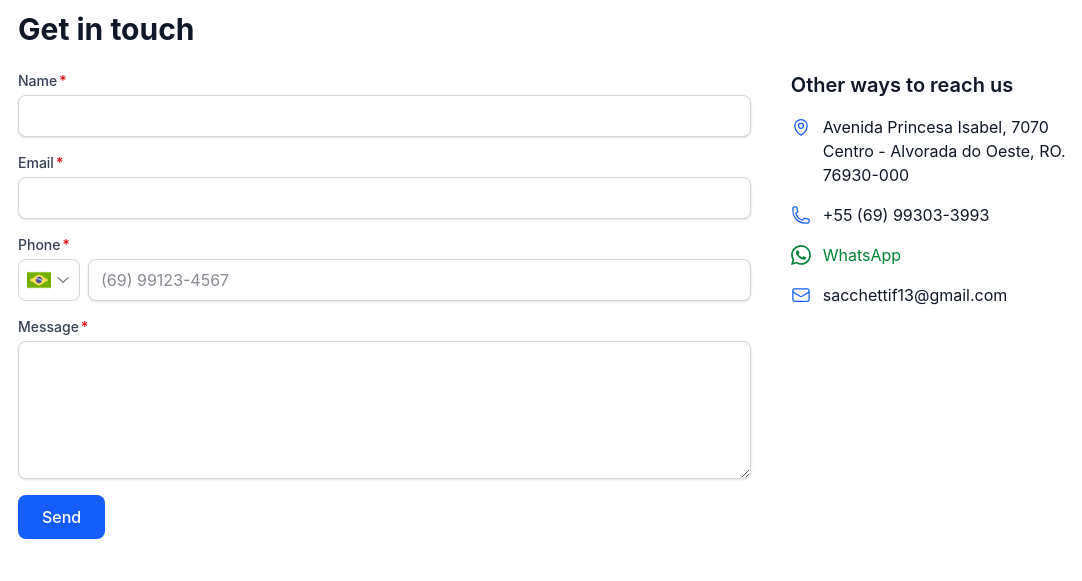
Test: ContactPage › rejects a single-word name client-side, requiring a full name
The image size is (1082, 581).
In the field labelled "Name*": coordinates (384, 116) [18,95,751,137], type "Maria"
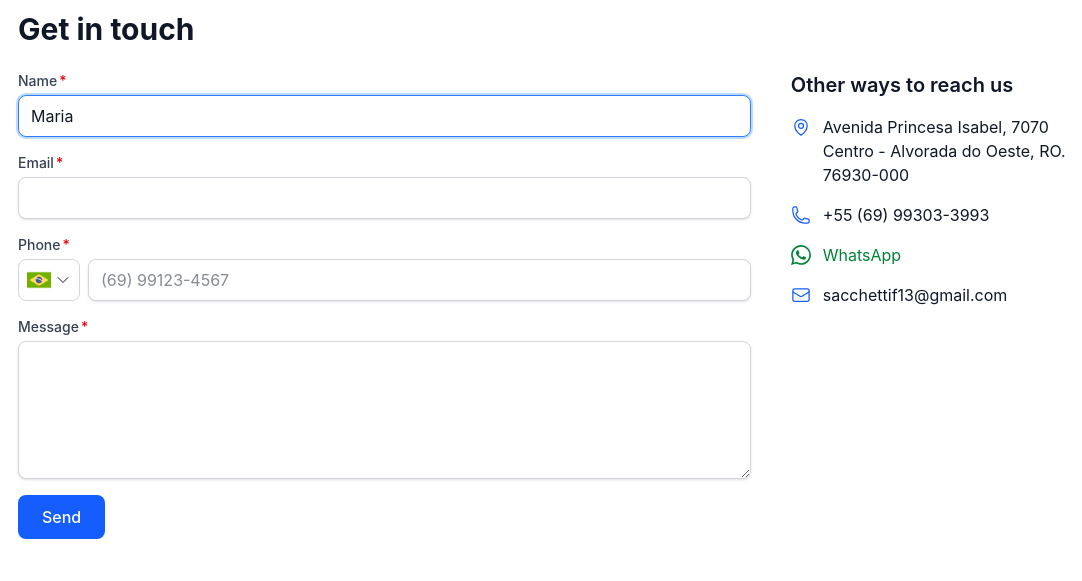
In the field labelled "Email*": coordinates (384, 198) [18,177,751,219], type "jane@example.com"
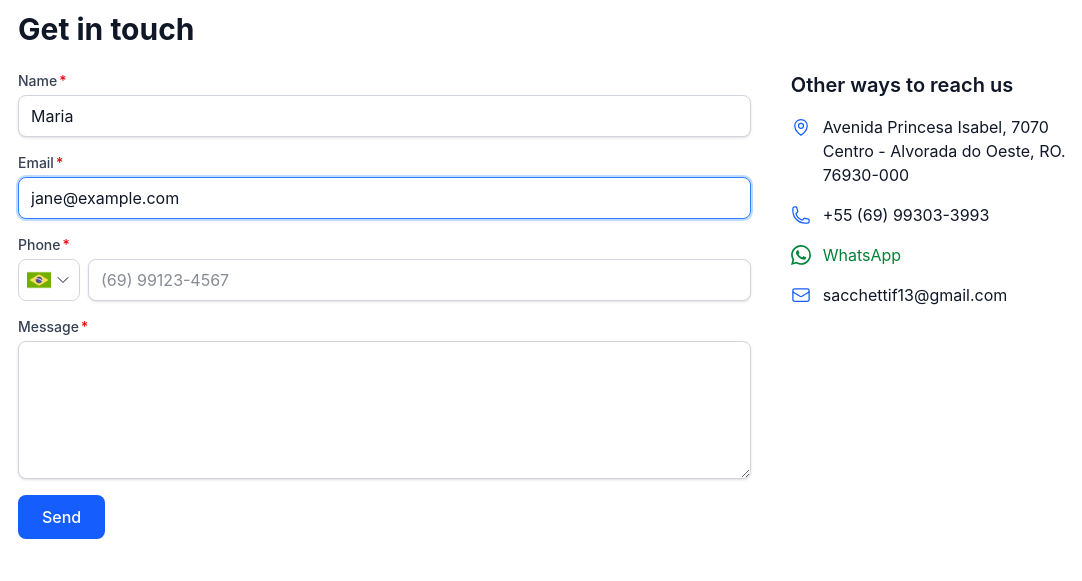
In the text box labelled "Message*": coordinates (384, 410) [18,341,751,479], type "Hello, I would like more information."
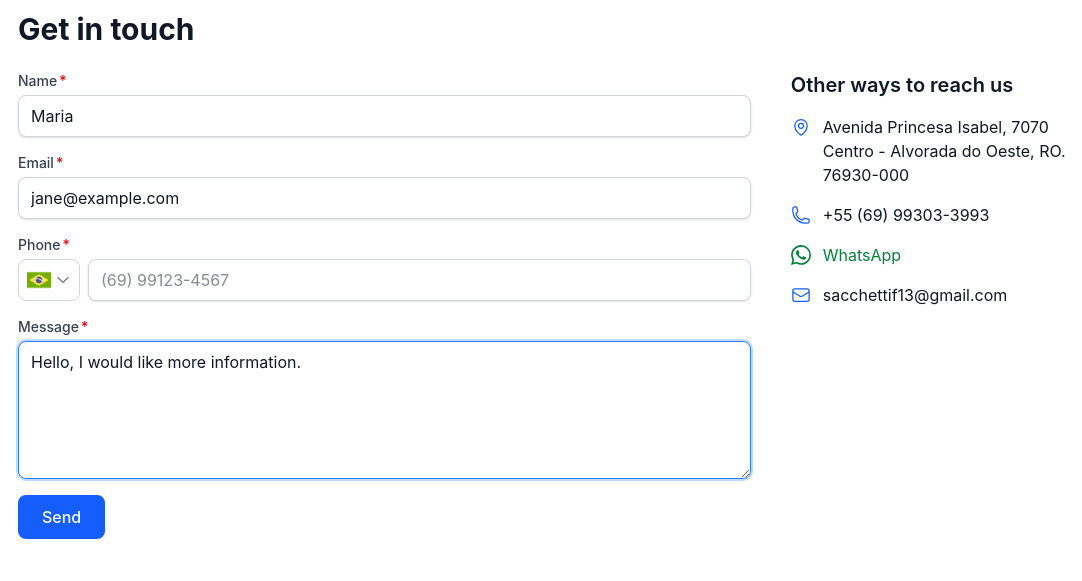
In the field labelled "Phone*": coordinates (419, 280) [88,259,751,301], type "11987654321"
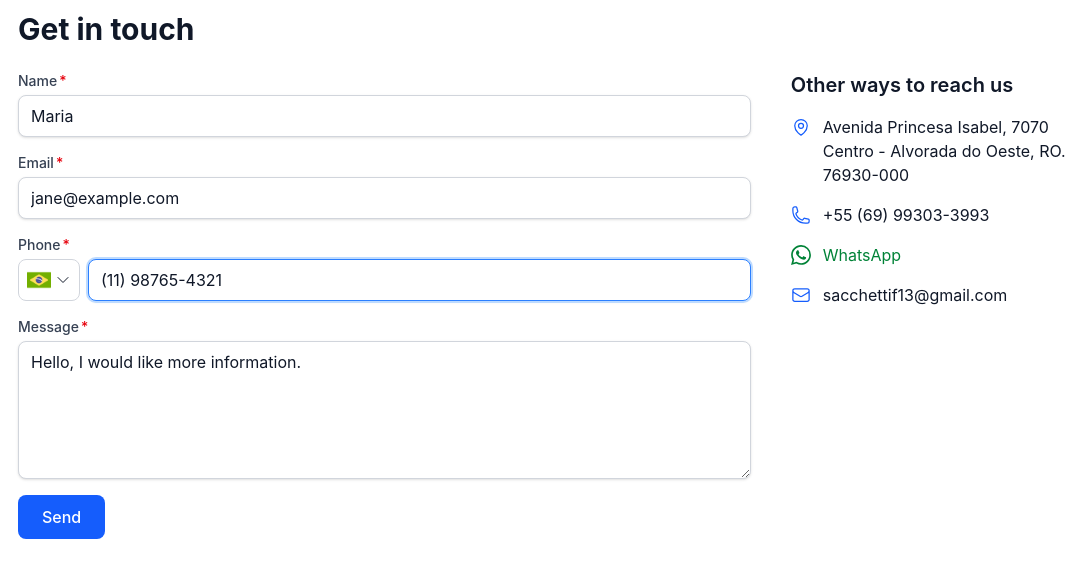
Click the button "Send": coordinates (62, 517) [18,495,105,539]
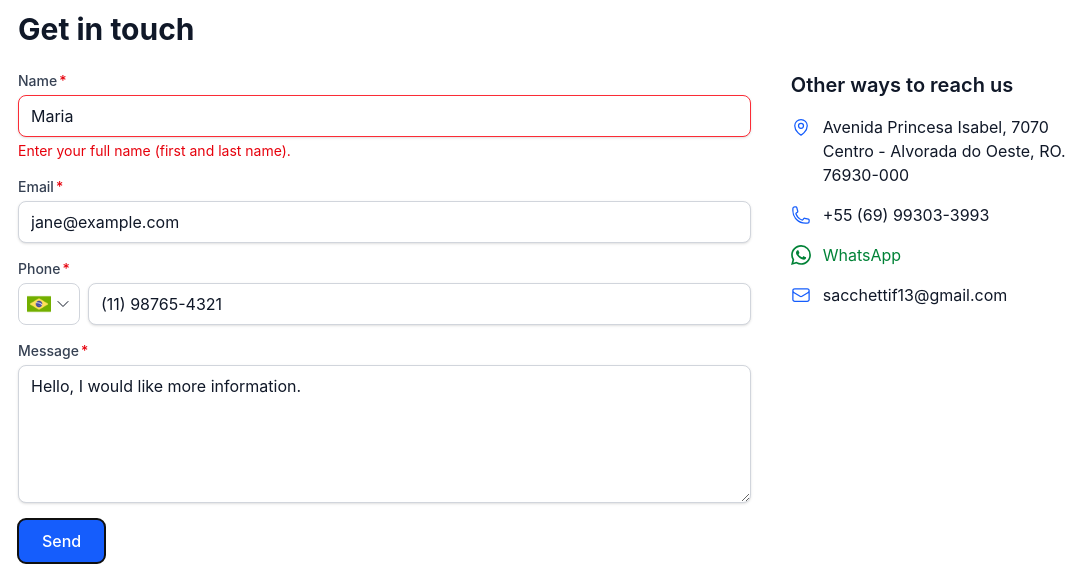
Result: the text "Enter your full name (first and last name)." is shown at [18,142,291,159]
